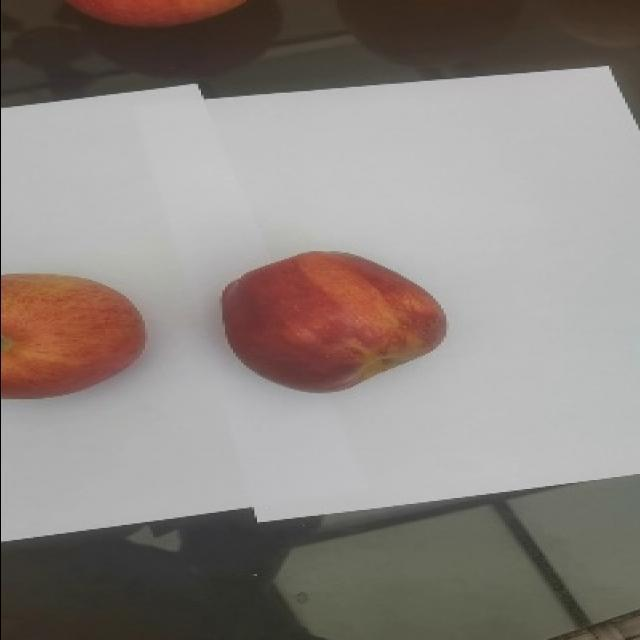Apple: (220, 249, 447, 393), (0, 271, 146, 399), (63, 0, 248, 28)
